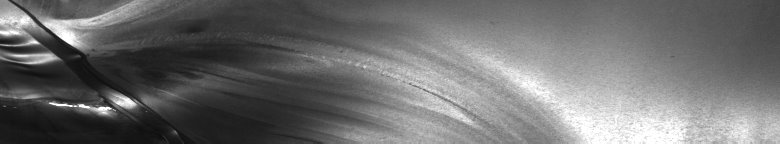ke: (4, 4, 476, 136)
